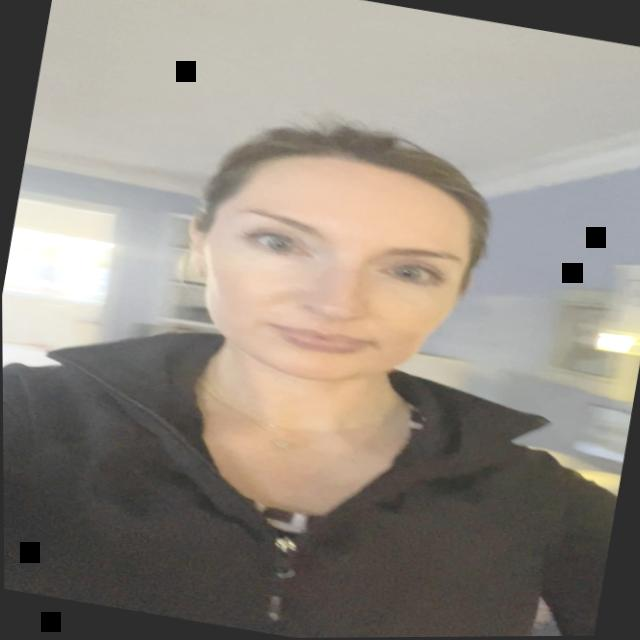NO-Mask: (161, 116, 506, 433)
